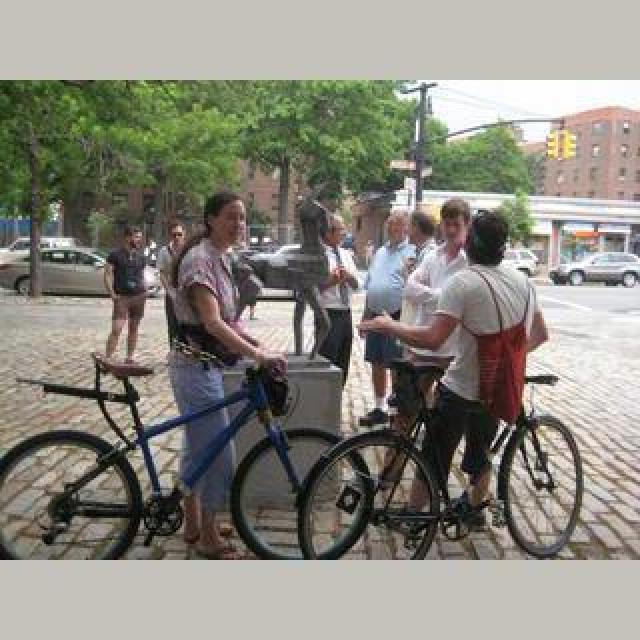Bus-Bike: (0, 242, 114, 300), (552, 252, 640, 286), (504, 250, 540, 278)
MC-Bike: (164, 192, 288, 554), (365, 196, 489, 520), (440, 216, 548, 514), (358, 212, 422, 416), (98, 224, 154, 364), (310, 218, 360, 374), (156, 218, 194, 352), (408, 208, 438, 262)
Person: (4, 348, 344, 558), (292, 356, 592, 560)
